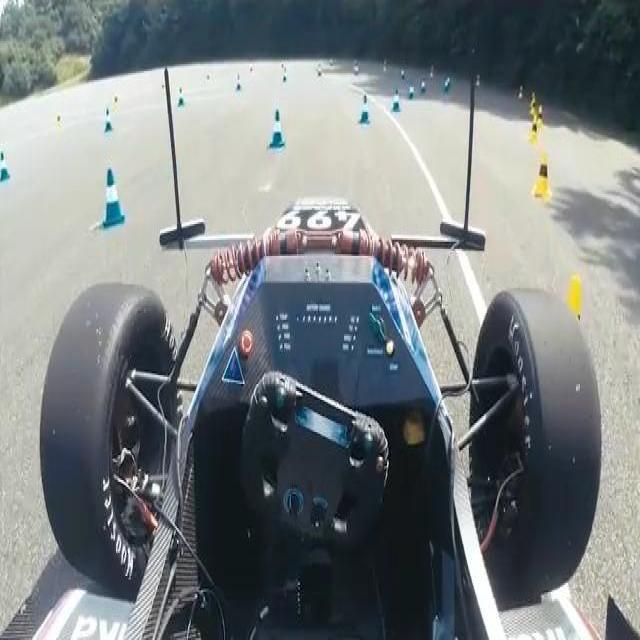blue_cone: (96, 155, 134, 229), (268, 110, 288, 150), (356, 94, 374, 135), (408, 77, 426, 99), (390, 90, 404, 116), (445, 73, 453, 92)
yellow_cone: (535, 155, 560, 203), (530, 108, 546, 140)
